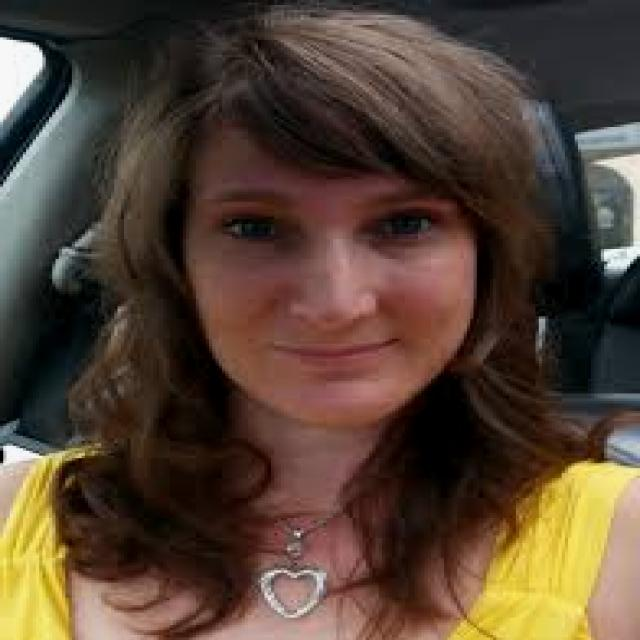normal_face: (142, 69, 482, 431)
